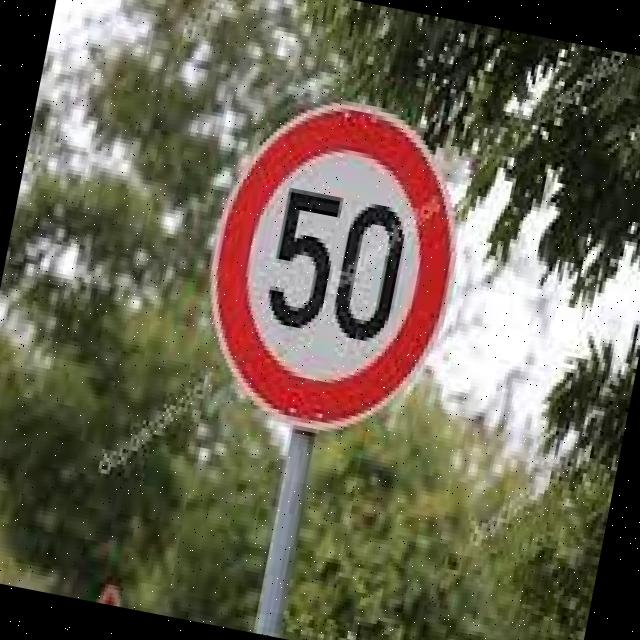speed_limit_50: (171, 66, 502, 460)
